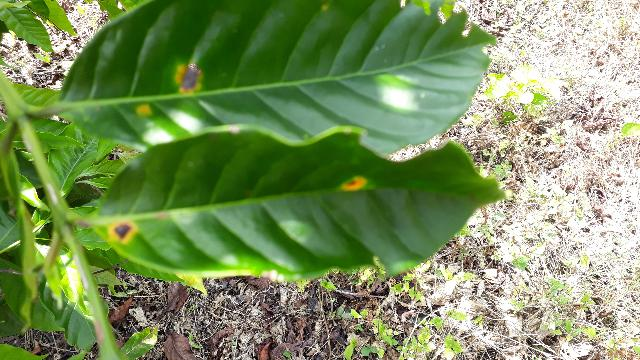rust_level_1: (97, 126, 508, 280)
